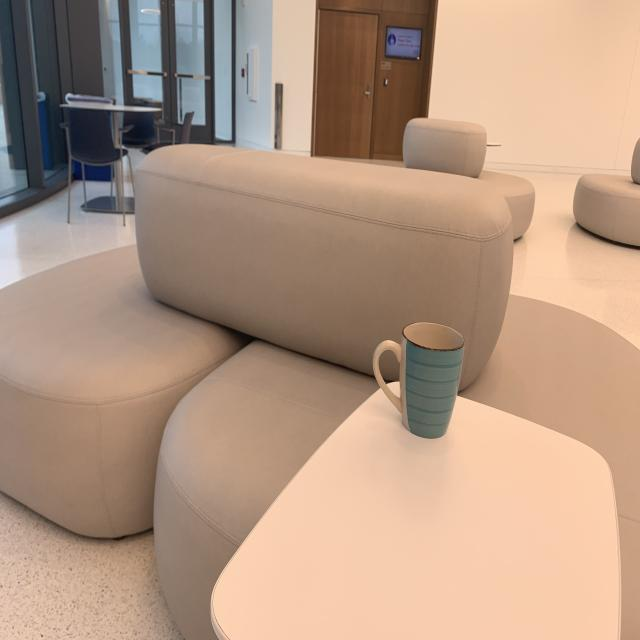Cup: (371, 313, 466, 447)
